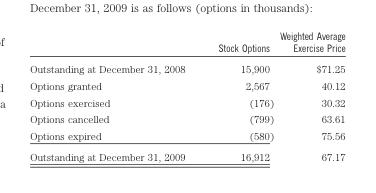table: (29, 29, 344, 161)
table column: (29, 29, 201, 161), (201, 29, 276, 161), (276, 29, 344, 161)
table column header: (29, 29, 344, 58)
table row: (29, 29, 344, 58), (29, 58, 344, 77), (29, 126, 344, 145), (29, 93, 344, 110), (29, 77, 344, 93), (29, 110, 344, 126), (29, 145, 344, 161)
